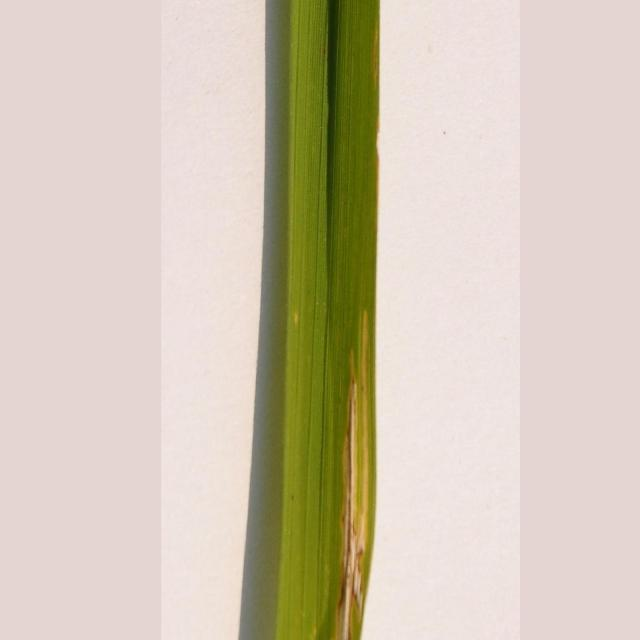leaf blight: (316, 309, 387, 640)
